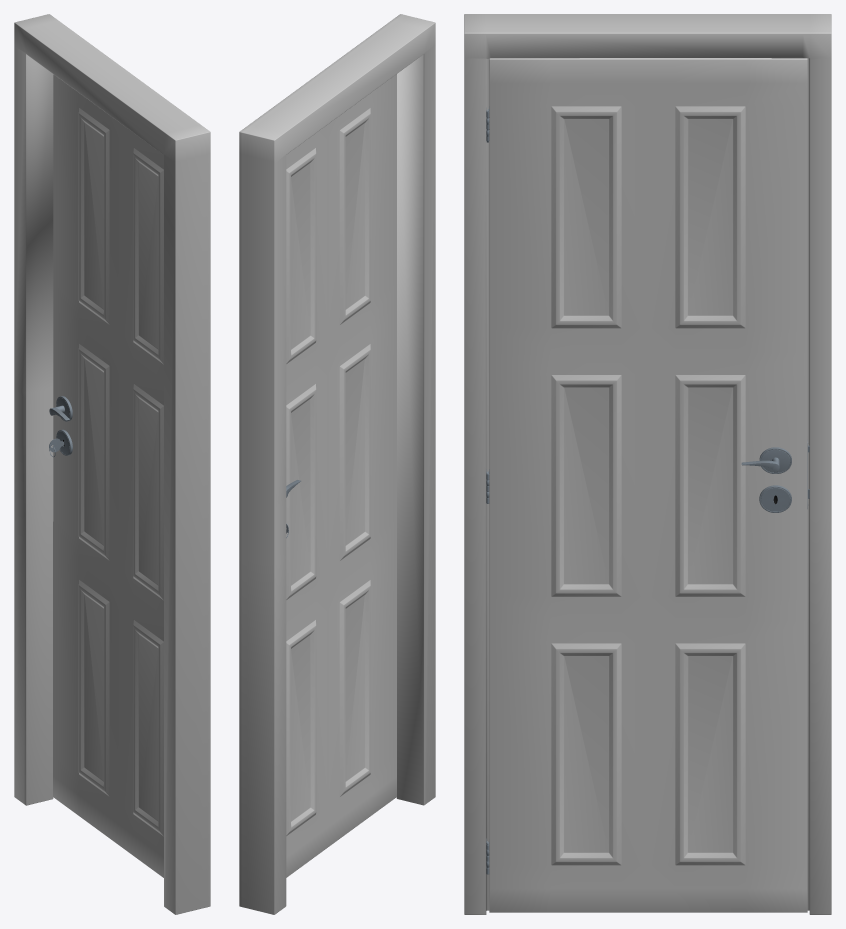
The model's file is High Poly Door.fbx.
3 renders of one model, left to right at view 1: azimuth 30°, elevation 25°; view 2: azimuth 150°, elevation 25°; view 3: azimuth 270°, elevation 25°, orthographic. The views are drawn at different scales.
Visible parts, largest first — view 1: Door, Door.001, door lock; view 2: Door, Door.001; view 3: Door, Door.001, door lock.
Boxes of the visible parts, x1=… form: Door: x1=53, y1=74, x2=163, y2=877; Door.001: x1=14, y1=14, x2=210, y2=914; door lock: x1=56, y1=396, x2=72, y2=455; Door: x1=286, y1=74, x2=396, y2=877; Door.001: x1=239, y1=14, x2=435, y2=914; Door: x1=486, y1=58, x2=808, y2=912; Door.001: x1=464, y1=14, x2=831, y2=914; door lock: x1=759, y1=447, x2=791, y2=512.
Size of the model in its own units: 14.16 by 212 by 79.89.
